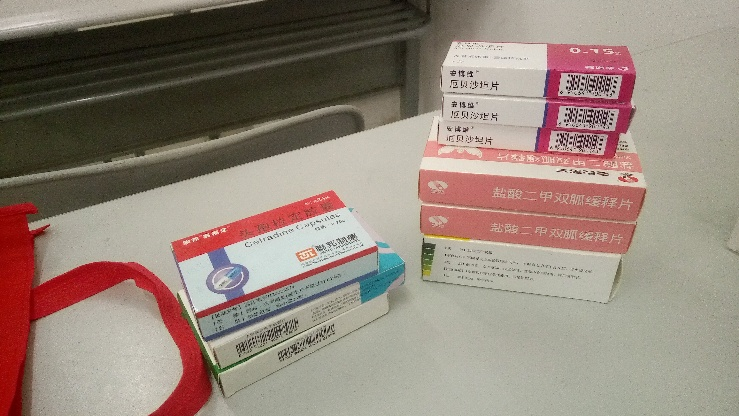pillbox: (171, 193, 381, 336), (214, 264, 413, 365), (218, 301, 393, 394), (418, 233, 622, 309), (416, 161, 648, 224), (445, 38, 638, 101), (419, 203, 638, 253), (440, 93, 634, 134), (438, 116, 622, 158)
